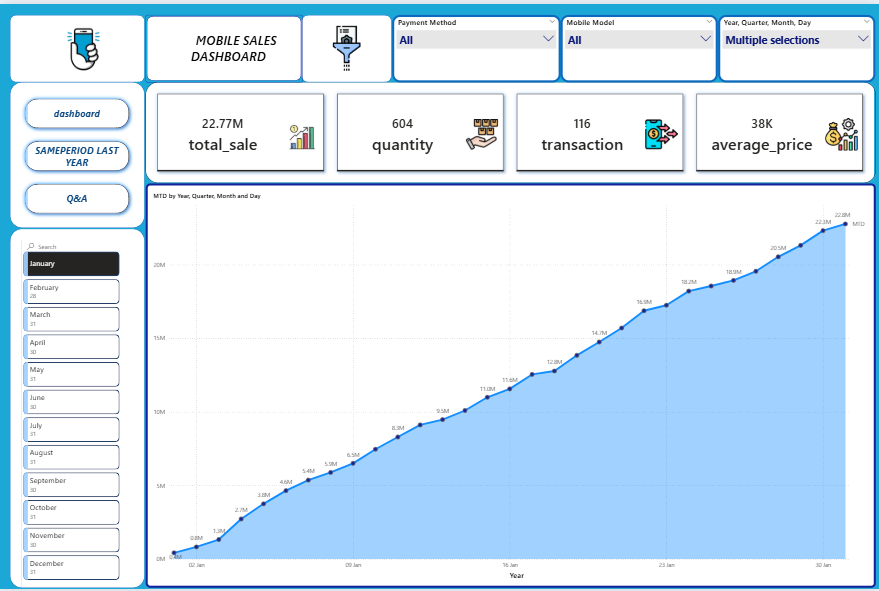

What the dashboard file says about the page in this screenshot:
{"tool":"powerbi","page":{"name":"MTD REPORT","canvas":[1882,1250],"ordinal":1},"visuals":[{"type":"shape","box":[24,24,288,144],"z":0},{"type":"image","box":[96,48,168,96],"z":1000},{"type":"shape","box":[24,168,288,312],"z":2000},{"type":"cardVisual","fields":{"Data":["mobile_sales.total_sale","mobile_sales.quantity","mobile_sales.transaction","mobile_sales.average_price"]},"box":[312,168,1560,216],"z":3000},{"type":"slicer","fields":{"Values":["mobile_sales.Mobile Model"]},"box":[1200,24,336,144],"z":4000},{"type":"slicer","fields":{"Values":["calendar.date.Variation.Date Hierarchy.Year","calendar.date.Variation.Date Hierarchy.Quarter","calendar.date.Variation.Date Hierarchy.Month","calendar.date.Variation.Date Hierarchy.Day"]},"box":[1536,24,336,144],"z":5000},{"type":"slicer","fields":{"Values":["mobile_sales.Payment Method"]},"box":[840,24,360,144],"z":6000},{"type":"shape","box":[648,24,192,144],"z":7000},{"type":"image","box":[648,48,192,96],"z":8000},{"type":"shape","box":[312,24,336,144],"z":9000},{"type":"textbox","box":[384,48,240,96],"z":10000},{"type":"lineChart","fields":{"Y":["mobile_sales.MTD"],"Category":["calendar.date.Variation.Date Hierarchy.Year","calendar.date.Variation.Date Hierarchy.Quarter","calendar.date.Variation.Date Hierarchy.Month","calendar.date.Variation.Date Hierarchy.Day"]},"box":[312,384,1560,864],"z":11000},{"type":"shape","box":[24,480,288,768],"z":12000},{"type":"advancedSlicerVisual","fields":{"Values":["calendar.date.Variation.Date Hierarchy.Month"],"Label":["CountNonNull(calendar.date.Variation.Date Hierarchy.Day)"]},"box":[48,504,216,744],"z":13000},{"type":"pageNavigator","box":[48,192,240,264],"z":14000}]}

Visuals, with their boxes in screenshot pixels (x1, y1, x2, y2), scaled from the page's 1882x1250 canvas onto the 879x591 screenshot:
shape: 11,11,146,79
image: 45,23,123,68
shape: 11,79,146,227
cardVisual - mobile_sales.total_sale x mobile_sales.quantity: 146,79,874,182
slicer - mobile_sales.Mobile Model: 560,11,717,79
slicer - calendar.date.Variation.Date Hierarchy.Year x calendar.date.Variation.Date Hierarchy.Quarter: 717,11,874,79
slicer - mobile_sales.Payment Method: 392,11,560,79
shape: 303,11,392,79
image: 303,23,392,68
shape: 146,11,303,79
textbox: 179,23,291,68
lineChart - mobile_sales.MTD x calendar.date.Variation.Date Hierarchy.Year: 146,182,874,590
shape: 11,227,146,590
advancedSlicerVisual - calendar.date.Variation.Date Hierarchy.Month x CountNonNull(calendar.date.Variation.Date Hierarchy.Day): 22,238,123,590
pageNavigator: 22,91,135,216
